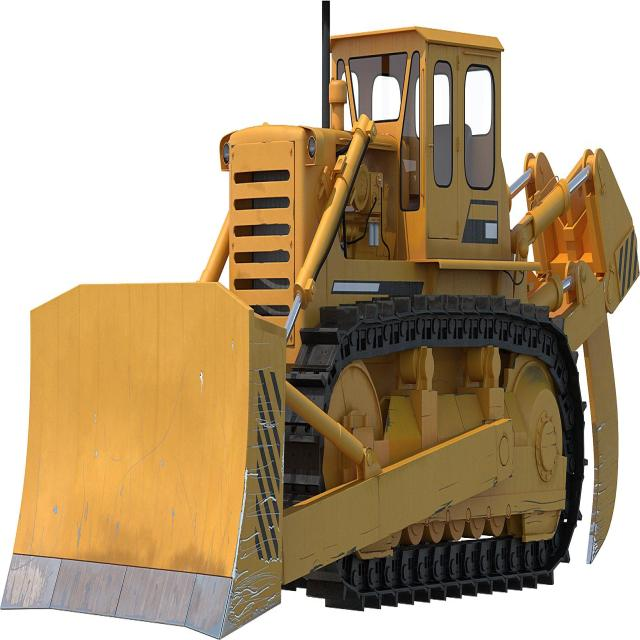buldozerpayloadergrader: (27, 0, 630, 639)
